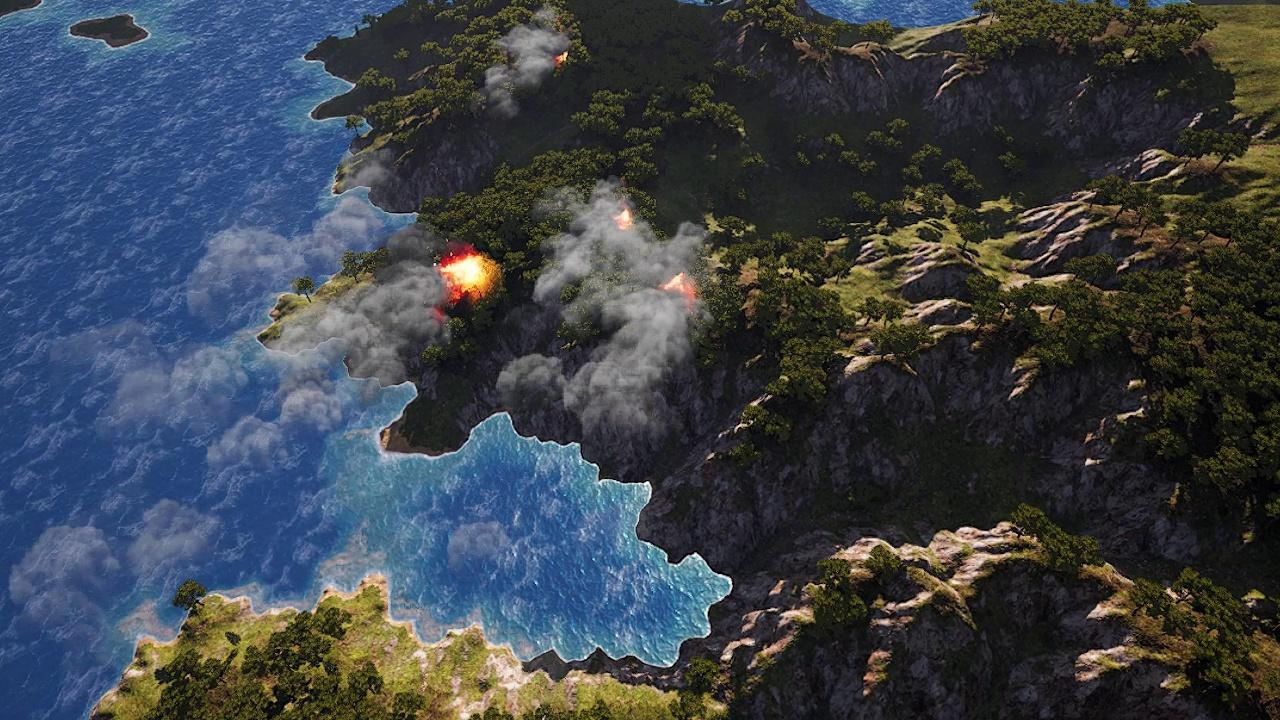fire: (439, 250, 491, 301), (662, 274, 701, 304), (616, 208, 635, 230), (556, 50, 572, 66)
smoke: (7, 150, 442, 689), (480, 176, 707, 462), (477, 20, 565, 116)
